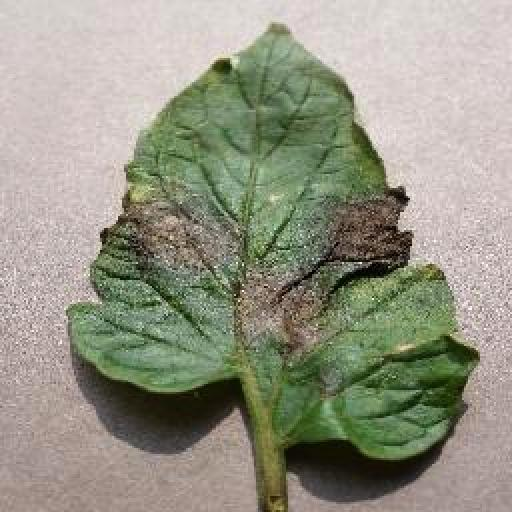disease_tomato: (70, 27, 482, 461)
